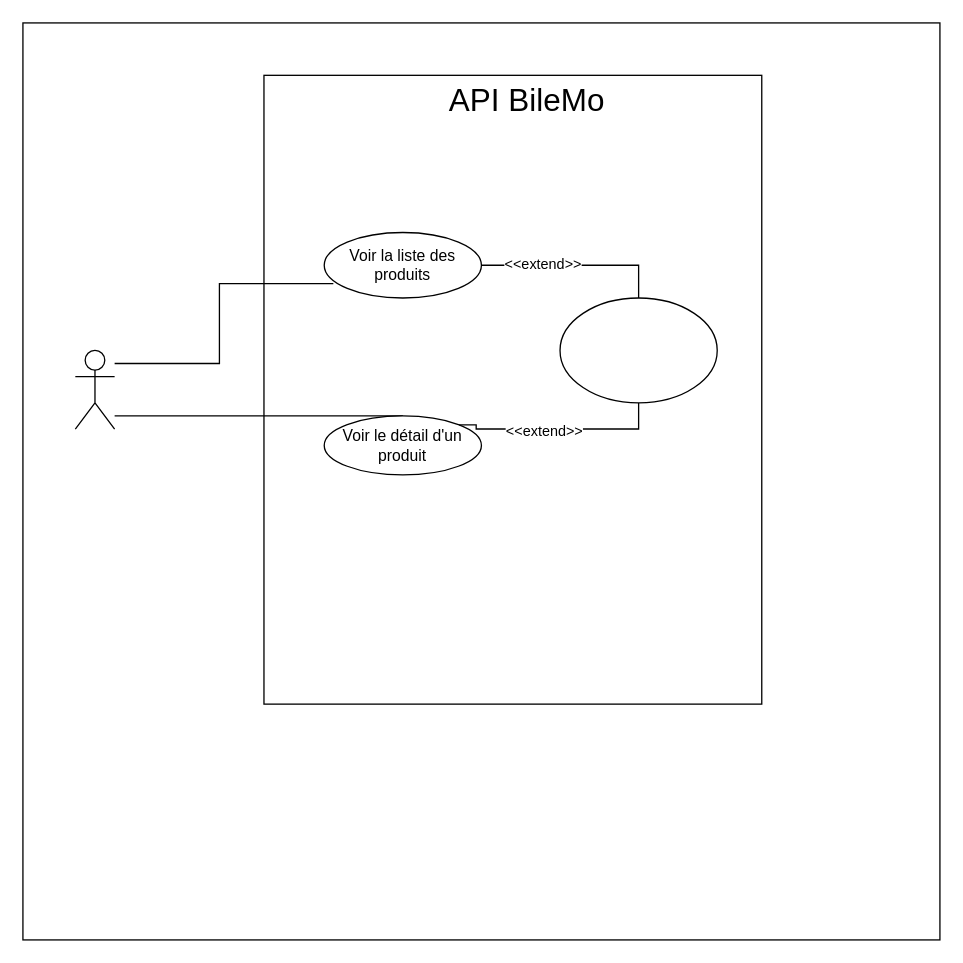
Some shapes in this 963 by 963 pixel diagram are drawn without their labels. Here are the shapes that lost their labels. From the top down, the box of each, then its label:
(559, 297, 717, 403): S'authentifier
(74, 349, 115, 429): Utilisateur
